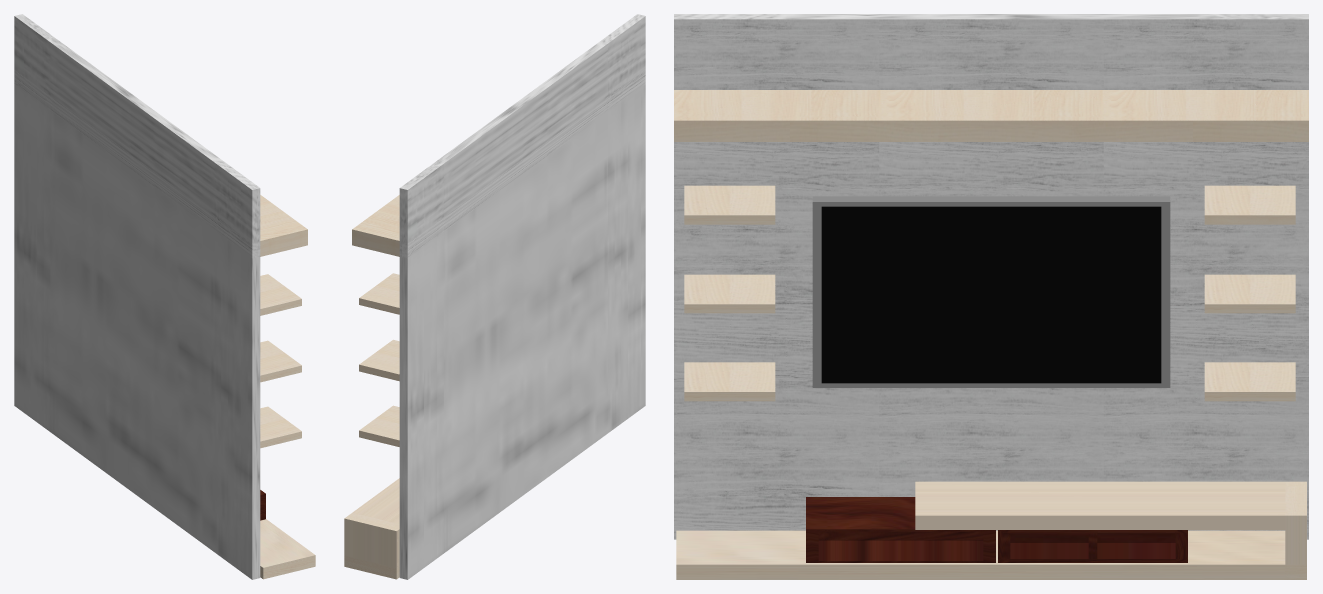
3 renders of one model, left to right at view 1: azimuth 30°, elevation 25°; view 2: azimuth 150°, elevation 25°; view 3: azimuth 270°, elevation 25°, orthographic. The views are drawn at different scales.
Parts seen in each view (by area): view 1: pCube1, pCube2, pasted__pasted__pCube5, pCube5, pasted__pCube5; view 2: pCube1, pCube2, pasted__pCube5, pasted__pasted__pCube5, pasted__pasted__pasted__pCube5; view 3: pCube1, pCube4, pCube2, pCube3, pasted__pCube5 (×2), pasted__pasted__pCube5 (×2), pasted__pCube3, pCube5, pasted__pasted__pasted__pCube5.
Part boxes in pixels (x1,y1,x2,y2): pCube1: (14, 14, 307, 579); pCube2: (260, 519, 315, 579); pasted__pasted__pCube5: (260, 406, 301, 448); pCube5: (260, 274, 301, 315); pasted__pCube5: (260, 340, 301, 382); pCube1: (352, 14, 645, 579); pCube2: (344, 478, 399, 579); pasted__pCube5: (359, 273, 399, 314); pasted__pasted__pCube5: (359, 339, 399, 381); pasted__pasted__pasted__pCube5: (359, 405, 399, 446); pCube1: (674, 14, 1308, 539); pCube4: (812, 196, 1170, 387); pCube2: (676, 481, 1306, 579); pCube3: (806, 497, 995, 562); pasted__pCube5 (×2): (684, 185, 1295, 313); pasted__pasted__pCube5 (×2): (684, 274, 1295, 401); pasted__pCube3: (998, 530, 1187, 562); pCube5: (684, 185, 775, 224); pasted__pasted__pasted__pCube5: (1204, 362, 1295, 401).
Size of the model in its own units: 4.3 by 25.15 by 27.6.
7 materials, 5 textured.
